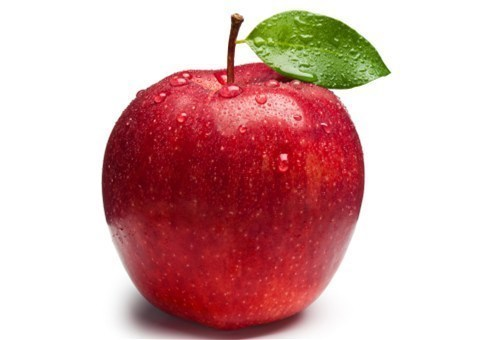apple: (102, 61, 372, 335)
